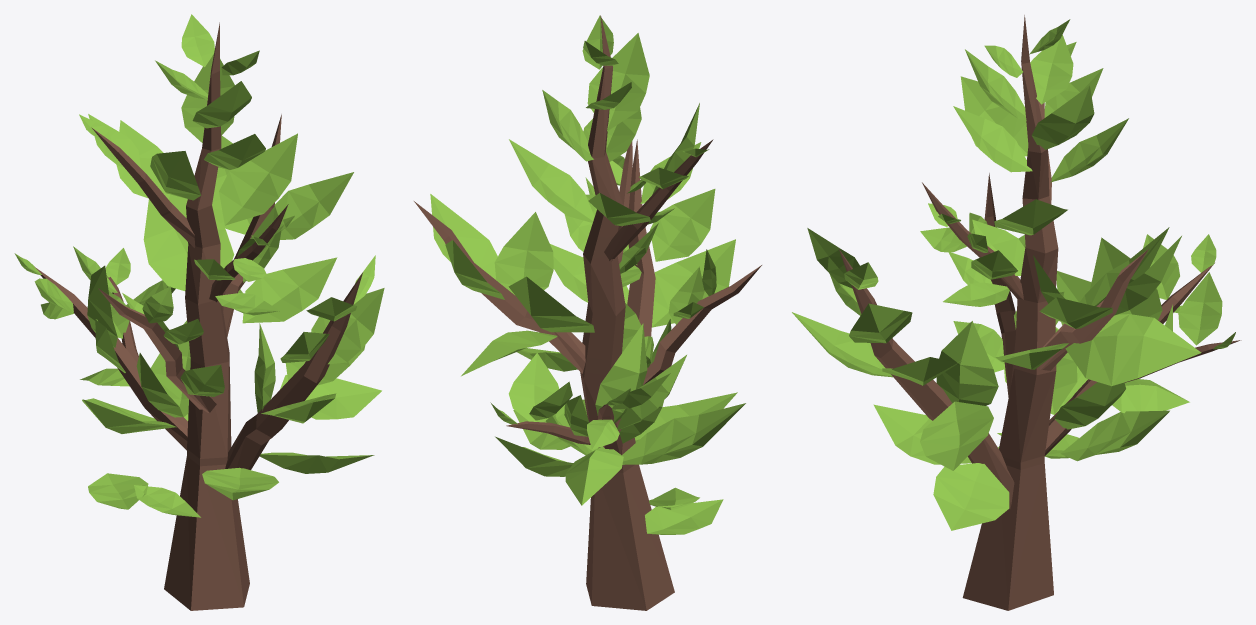
Rendered from PotPlant.fbx.
3 renders of one model, left to right at view 1: azimuth 30°, elevation 25°; view 2: azimuth 150°, elevation 25°; view 3: azimuth 270°, elevation 25°, orthographic. The views are drawn at different scales.
Visible parts, largest first — view 1: Pot Plant; view 2: Pot Plant; view 3: Pot Plant.
Part boxes in pixels (x1,y1,x2,y2): Pot Plant: [14, 14, 384, 610]; Pot Plant: [414, 15, 761, 610]; Pot Plant: [792, 15, 1241, 610].
Size of the model in its own units: 22.07 by 41.1 by 28.59.
